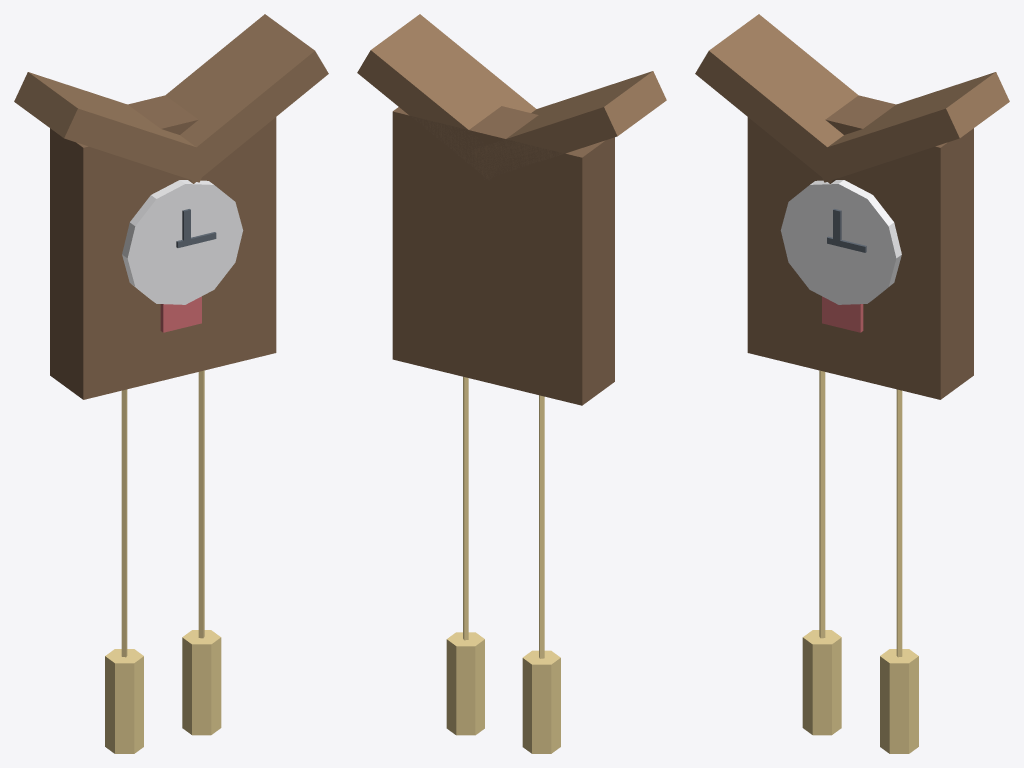
The model's file is prop_clock.glb.
3 views of the same model, side by side, from view 1: azimuth 30°, elevation 25°; view 2: azimuth 150°, elevation 25°; view 3: azimuth 330°, elevation 25° (orthographic).
Parts seen in each view (by area): view 1: Body, Roof left, Chain.0, Face, Bird door, Hand hour; view 2: Body, Roof left, Chain.0; view 3: Body, Roof left, Chain.0, Face, Bird door, Hand hour.
Part boxes in pixels (<box>): Body: <box>50,95,276,399</box>; Roof left: <box>14,14,328,183</box>; Chain.0: <box>105,370,221,753</box>; Face: <box>122,180,243,304</box>; Bird door: <box>160,296,201,332</box>; Hand hour: <box>176,209,216,247</box>; Body: <box>392,106,614,405</box>; Roof left: <box>357,14,666,180</box>; Chain.0: <box>446,376,560,753</box>; Body: <box>747,95,973,399</box>; Roof left: <box>695,14,1009,183</box>; Chain.0: <box>802,370,918,753</box>; Face: <box>780,180,901,304</box>; Bird door: <box>822,296,863,332</box>; Hand hour: <box>827,209,866,252</box>.
Bounding box in the file's own units: 0.5496 × 1.35 × 0.18.
